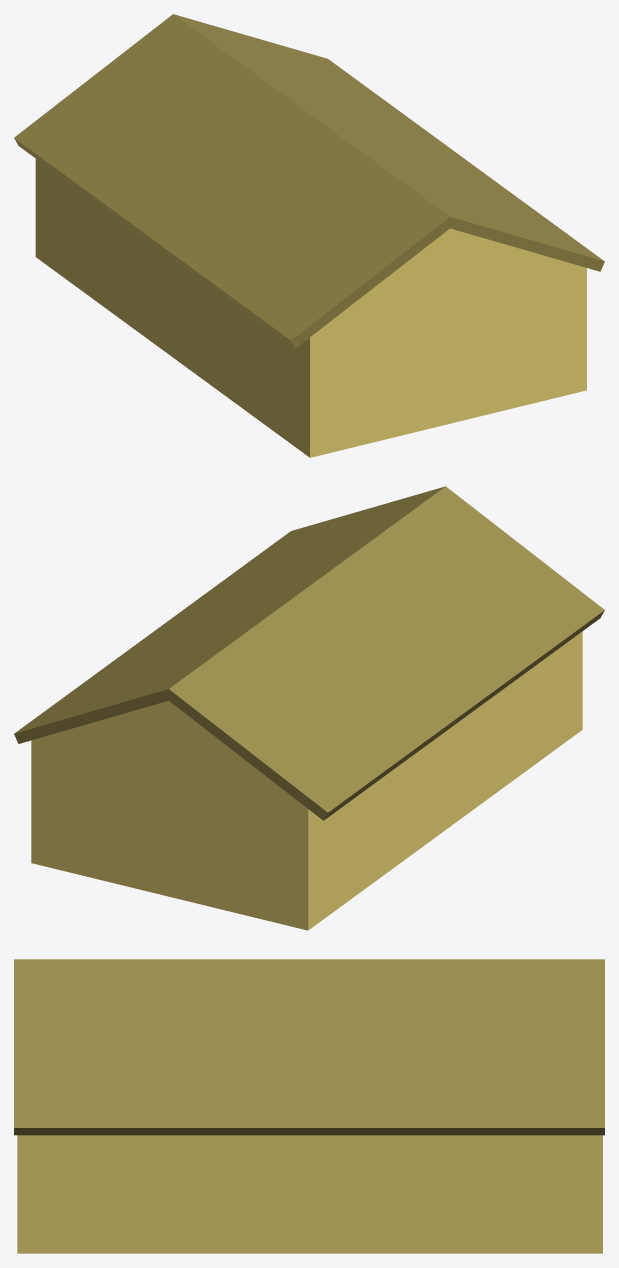
File: result.glb
3 views of the same model, one above another, from view 1: azimuth 30°, elevation 25°; view 2: azimuth 150°, elevation 25°; view 3: azimuth 270°, elevation 25° (orthographic). The views are drawn at different scales.
Visible parts, largest first — view 1: 6e6d3406-6135-464a-9ee5-7d519c3f915a__undefined (×2), b1789625-4aeb-4fd3-a246-2d6287622e9b__undefined; view 2: 6e6d3406-6135-464a-9ee5-7d519c3f915a__undefined (×2), b1789625-4aeb-4fd3-a246-2d6287622e9b__undefined; view 3: 6e6d3406-6135-464a-9ee5-7d519c3f915a__undefined, b1789625-4aeb-4fd3-a246-2d6287622e9b__undefined.
Part boxes in pixels (x1,y1,x2,y2): 6e6d3406-6135-464a-9ee5-7d519c3f915a__undefined (×2): [14, 14, 604, 348]; b1789625-4aeb-4fd3-a246-2d6287622e9b__undefined: [35, 159, 586, 457]; 6e6d3406-6135-464a-9ee5-7d519c3f915a__undefined (×2): [14, 486, 604, 820]; b1789625-4aeb-4fd3-a246-2d6287622e9b__undefined: [31, 631, 582, 930]; 6e6d3406-6135-464a-9ee5-7d519c3f915a__undefined: [14, 959, 604, 1135]; b1789625-4aeb-4fd3-a246-2d6287622e9b__undefined: [17, 1135, 602, 1253].
Size of the model in its own units: 793 by 503 by 1211.
